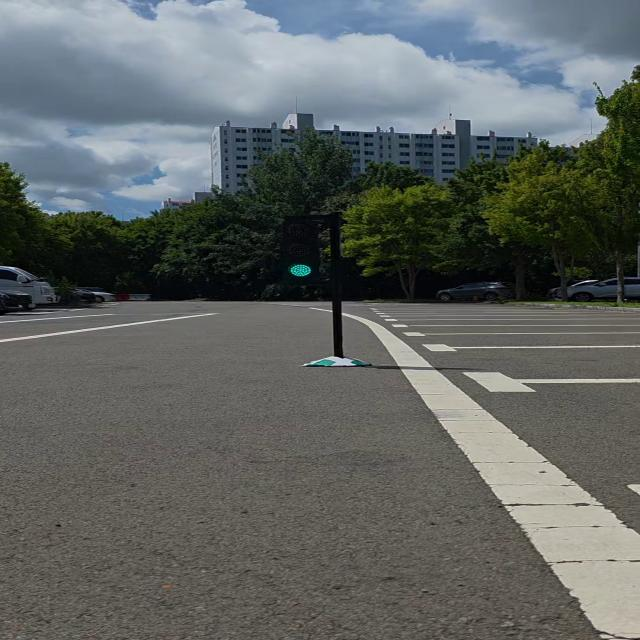green: (277, 214, 323, 284)
